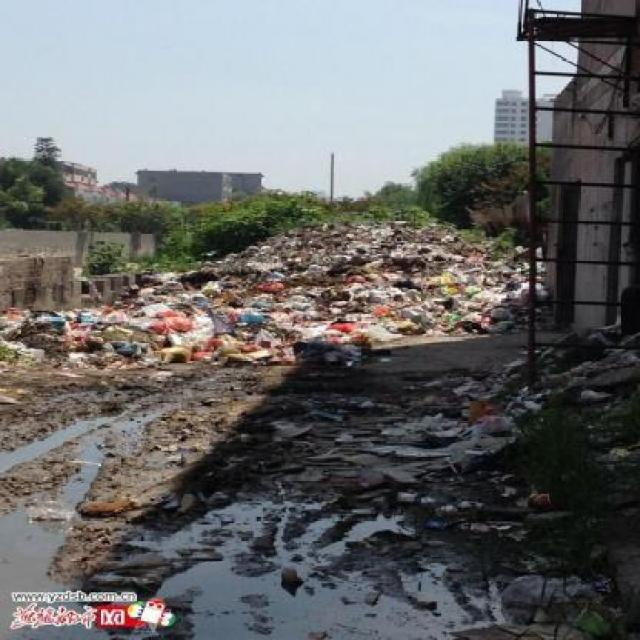garbage: (51, 223, 530, 359)
